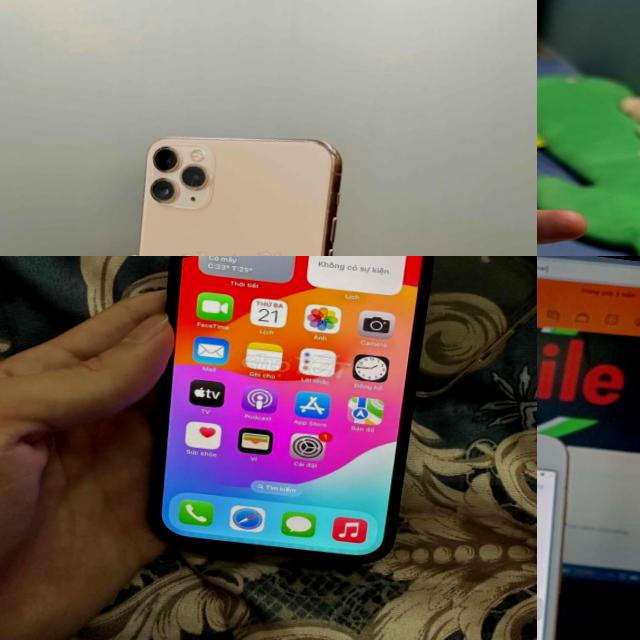gen_11: (84, 114, 360, 256)
gen_12_13: (119, 256, 463, 582)
gen_7_8: (537, 395, 596, 640)
